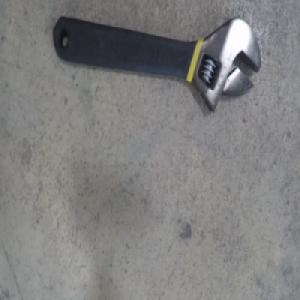AdjustableWrench: (52, 12, 258, 117)
